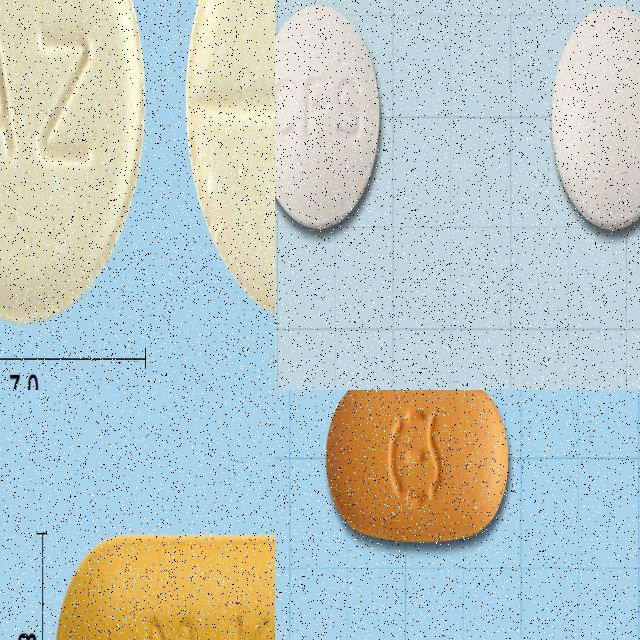Azafrine Tab: (0, 0, 150, 331), (184, 0, 275, 326)
Ciproxin: (275, 0, 385, 235), (544, 0, 640, 244)
Clarione -500mg: (324, 390, 513, 551)
Craycin: (54, 532, 275, 640)
